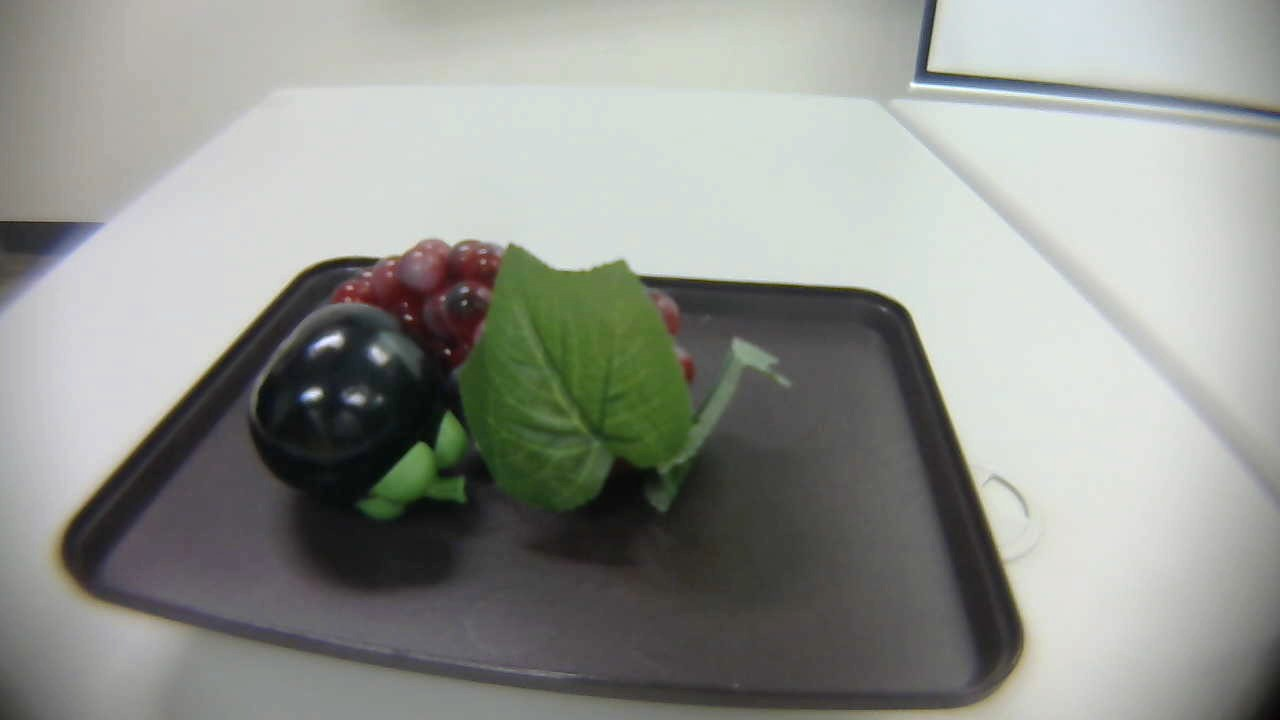grape: (332, 237, 779, 517)
mangosteen: (240, 294, 481, 535)
